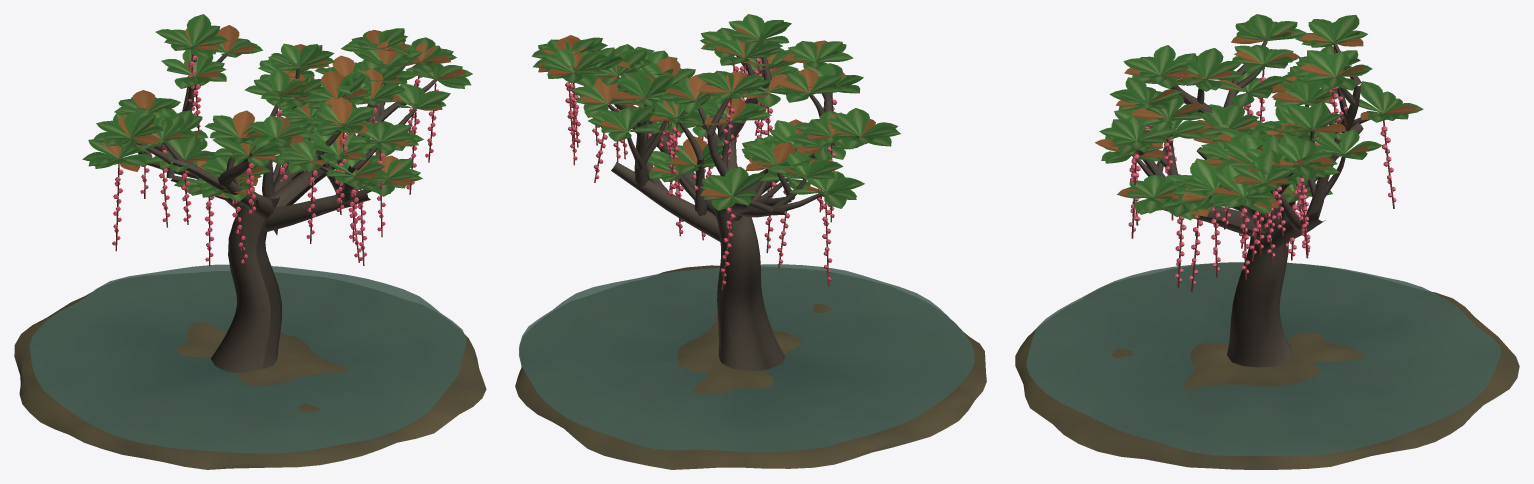
Rendered from hijal-tree.glb.
The picture shows the model from 3 angles, left to right: view 1: azimuth 30°, elevation 25°; view 2: azimuth 150°, elevation 25°; view 3: azimuth 270°, elevation 25°; orthographic projection. The views are drawn at different scales.
Parts seen in each view (by area): view 1: water, hijal-leaf-upper, mud, bark, flowers, raceme-stalks, hijal-leaf-lower; view 2: water, hijal-leaf-upper, bark, mud, flowers, raceme-stalks; view 3: water, hijal-leaf-upper, mud, bark, flowers, raceme-stalks.
Part boxes in pixels (box(x1,y1,x2,y2)): water: box(29, 264, 466, 453); hijal-leaf-upper: box(82, 14, 472, 201); mud: box(14, 292, 486, 469); bark: box(120, 49, 436, 372); flowers: box(112, 55, 438, 263); raceme-stalks: box(115, 54, 436, 269); hijal-leaf-lower: box(128, 46, 446, 175); water: box(518, 264, 974, 452); hijal-leaf-upper: box(531, 14, 900, 210); bark: box(608, 44, 858, 370); mud: box(515, 265, 986, 469); flowers: box(565, 48, 837, 284); raceme-stalks: box(568, 56, 832, 289); water: box(1026, 262, 1500, 456); hijal-leaf-upper: box(1095, 14, 1423, 220); mud: box(1015, 262, 1519, 469); bark: box(1132, 41, 1382, 367); flowers: box(1128, 76, 1396, 284); raceme-stalks: box(1131, 47, 1394, 291).
Bounding box in the file's own units: 2.61 × 1.93 × 2.62.
